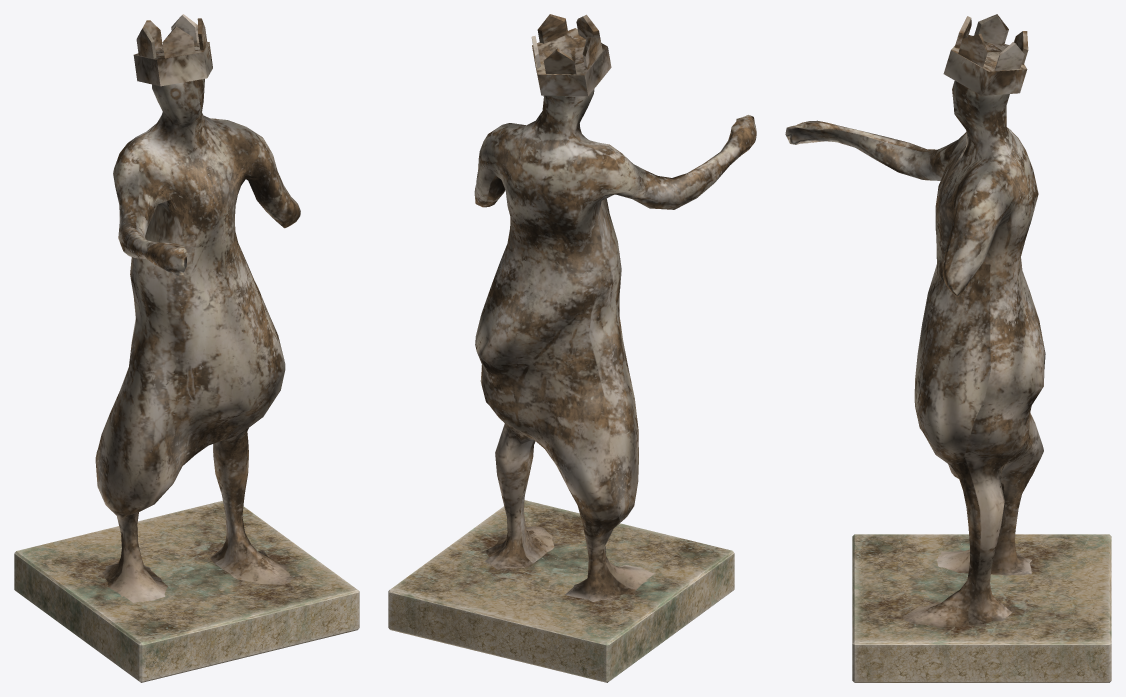
File: AnicentStatue_Dominick.fbx
The picture shows the model from 3 angles, left to right: view 1: azimuth 30°, elevation 25°; view 2: azimuth 150°, elevation 25°; view 3: azimuth 270°, elevation 25°; orthographic projection.
Visible parts, largest first — view 1: Statue, Foundation, Crown; view 2: Statue, Foundation, Crown; view 3: Statue, Foundation, Crown.
Part boxes in pixels (<box>): Statue: <box>95,79,300,602</box>; Foundation: <box>14,500,359,682</box>; Crown: <box>133,14,212,86</box>; Statue: <box>474,89,756,601</box>; Foundation: <box>388,500,734,682</box>; Crown: <box>531,14,611,96</box>; Statue: <box>785,81,1045,627</box>; Foundation: <box>852,534,1111,682</box>; Crown: <box>943,14,1028,95</box>.
Size of what is drawn, in the model's own units: 3.29 by 8.47 by 4.14.
2 materials, 2 textured.
